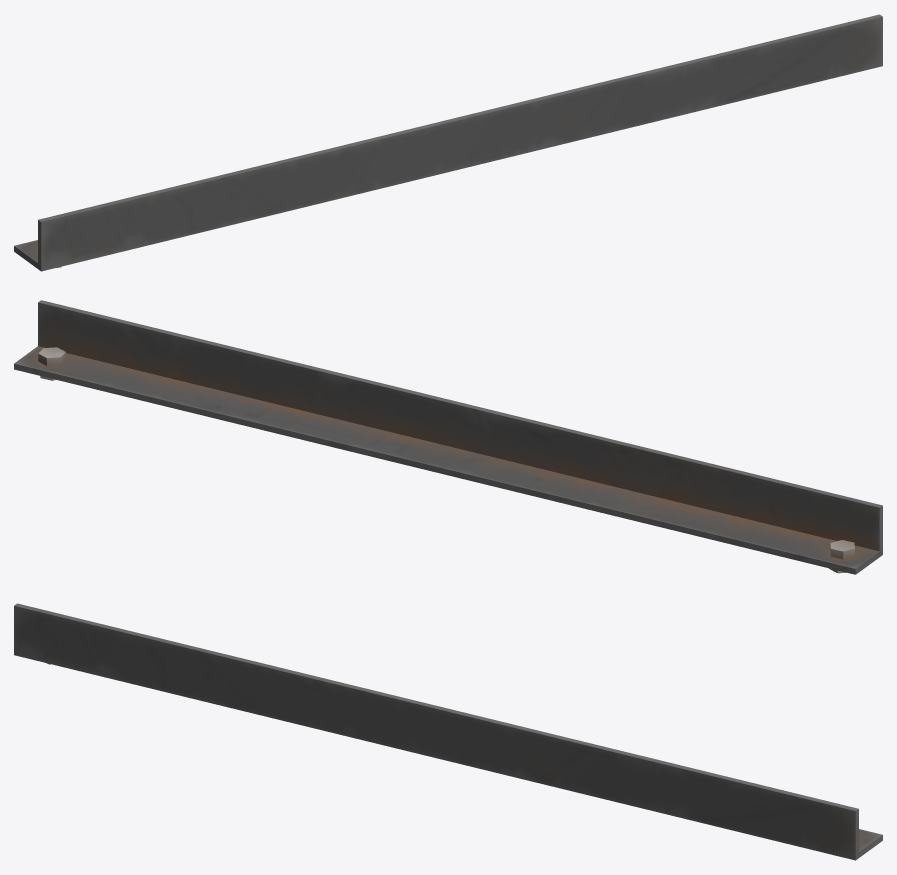
The model's file is brace_01.glb.
3 views of the same model, one above another, from view 1: azimuth 30°, elevation 25°; view 2: azimuth 150°, elevation 25°; view 3: azimuth 330°, elevation 25° (orthographic).
Visible parts, largest first — view 1: modular_airduct_rectangular_01_brace_01.001; view 2: modular_airduct_rectangular_01_brace_01.001; view 3: modular_airduct_rectangular_01_brace_01.001.
Boxes of the visible parts, bbox=[...] form: modular_airduct_rectangular_01_brace_01.001: bbox=[14, 14, 882, 271]; modular_airduct_rectangular_01_brace_01.001: bbox=[14, 300, 882, 574]; modular_airduct_rectangular_01_brace_01.001: bbox=[14, 603, 882, 860].
Bounding box in the file's own units: 0.6897 × 0.0453 × 0.0387.
Materials: 1 (1 with a texture image).
